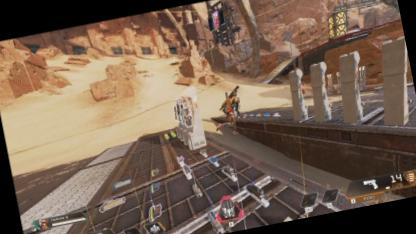Target: (210, 84, 246, 136)
